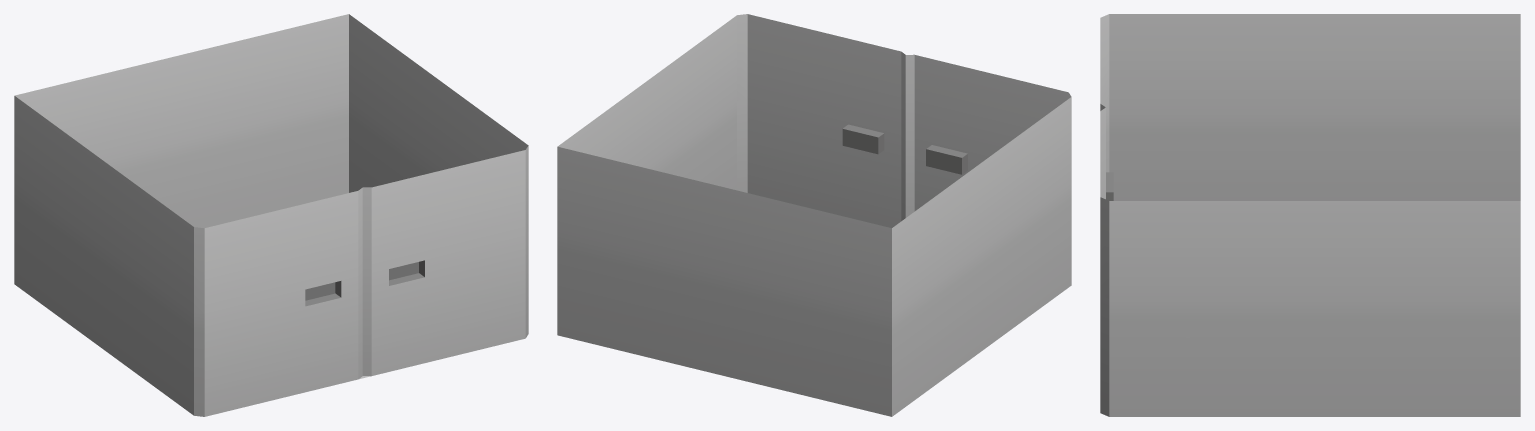
Rendered from Counter_01_v06_C02.fbx.
3 renders of one model, left to right at view 1: azimuth 30°, elevation 25°; view 2: azimuth 150°, elevation 25°; view 3: azimuth 270°, elevation 25°, orthographic. The views are drawn at different scales.
Visible parts, largest first — view 1: Counter_01_v06_C02; view 2: Counter_01_v06_C02; view 3: Counter_01_v06_C02.
Boxes of the visible parts, x1,y1,x2,y2 form: Counter_01_v06_C02: (14,14,528,416); Counter_01_v06_C02: (557,14,1071,416); Counter_01_v06_C02: (1100,14,1520,416).
Size of the model in its own units: 100 by 53.91 by 94.97.
